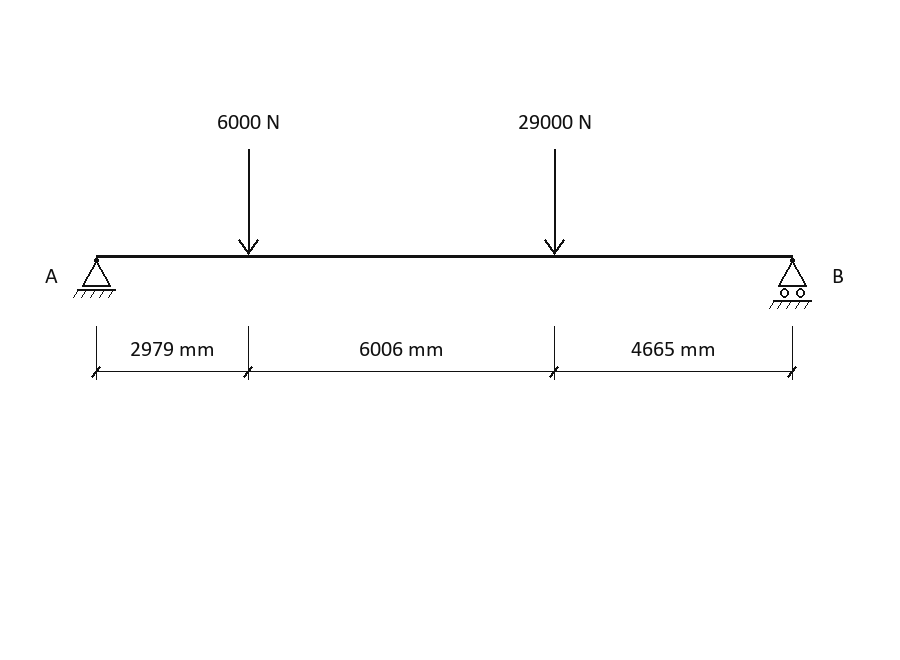pin_support: (73, 258, 116, 298)
point_load: (238, 149, 259, 255), (544, 149, 565, 255)
roller_support: (769, 258, 812, 309)
